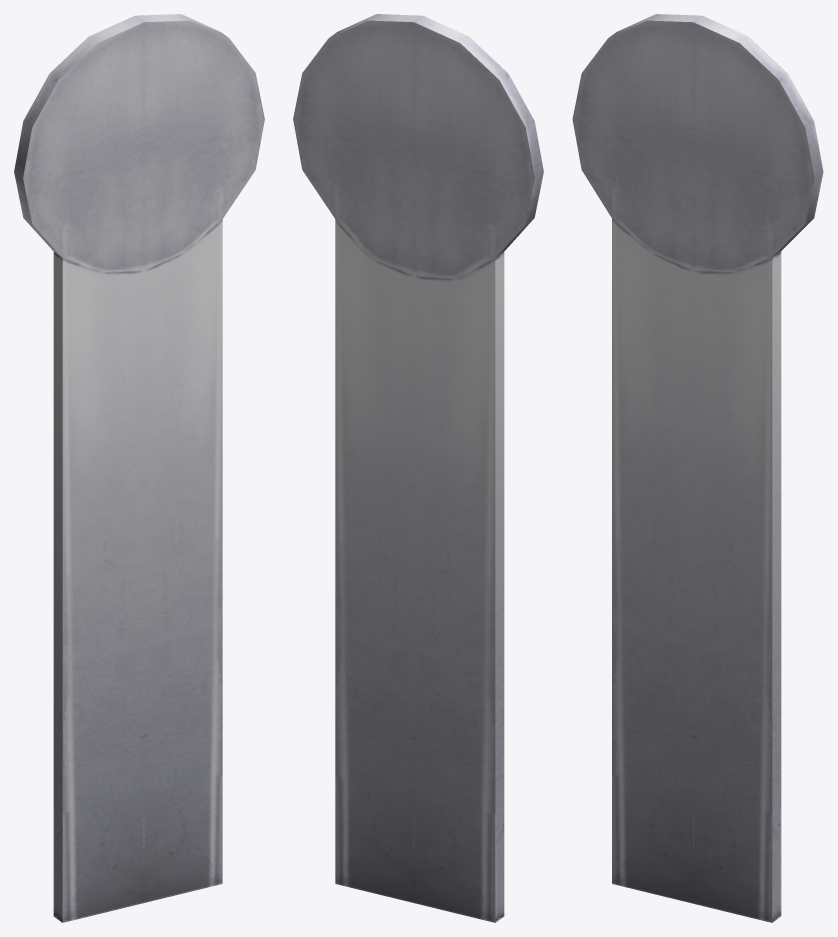
3 views of the same model, side by side, from view 1: azimuth 30°, elevation 25°; view 2: azimuth 150°, elevation 25°; view 3: azimuth 330°, elevation 25° (orthographic).
Parts seen in each view (by area): view 1: Object44; view 2: Object44; view 3: Object44.
Part boxes in pixels (<box>): Object44: <box>14,14,264,922</box>; Object44: <box>293,14,543,922</box>; Object44: <box>572,14,823,922</box>.
Size of the model in its own units: 7.94 by 0.5097 by 27.64.
